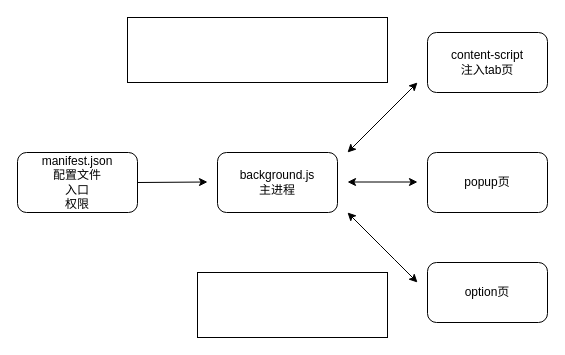
The diagram is 565 pixels wide and 355 high, and some of its shapes have lost their labels. The box of each missing label's shape, as (x1, y1, x2, y2) in pixels:
主传子 chrome.tabs.sendmessage: (196, 272, 388, 338)
子传主 chrome . runtime . sendMessage chrome . runtime . onMessage . addListener: (126, 16, 388, 82)
